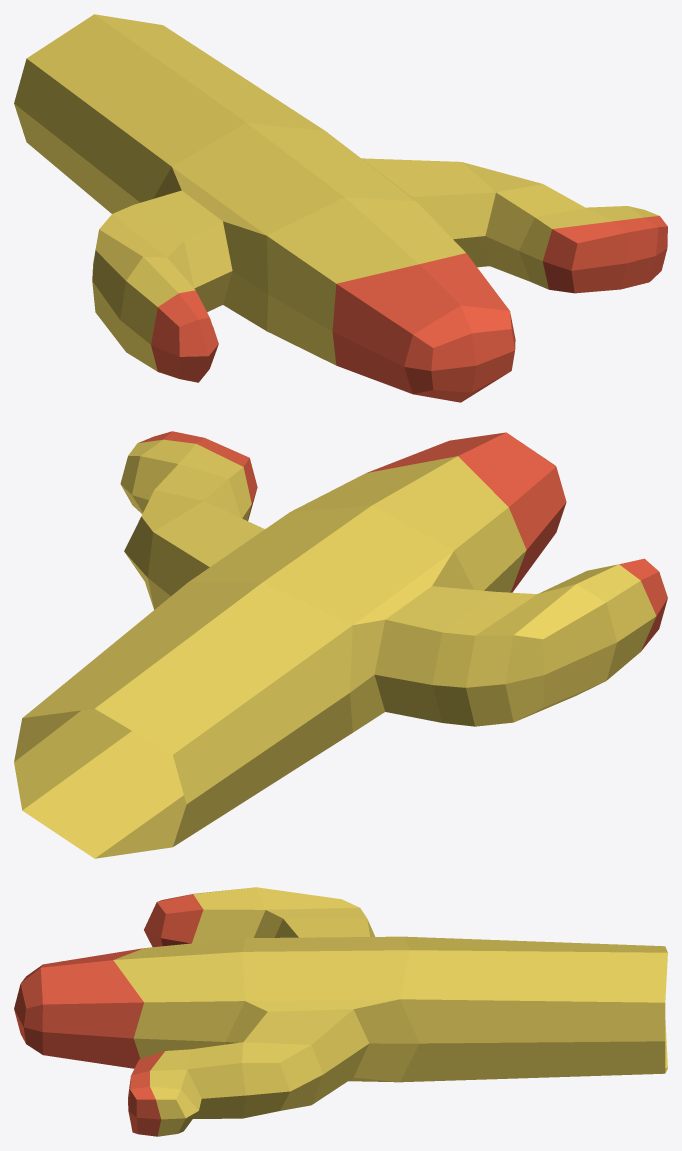
Rendered from Cactus_2.fbx.
3 renders of one model, top to bottom at view 1: azimuth 30°, elevation 25°; view 2: azimuth 150°, elevation 25°; view 3: azimuth 270°, elevation 25°, orthographic. The views are drawn at different scales.
Parts seen in each view (by area): view 1: Cube; view 2: Cube; view 3: Cube.
Part boxes in pixels (left/top/right/bottom): Cube: left=14, top=14, right=667, bottom=402; Cube: left=14, top=431, right=667, bottom=858; Cube: left=14, top=887, right=667, bottom=1136.
Size of the model in its own units: 421 by 117 by 574.
